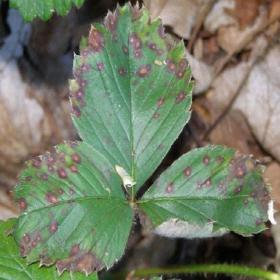Leaf Spot: (68, 0, 195, 199), (3, 139, 134, 279), (136, 144, 278, 238)
